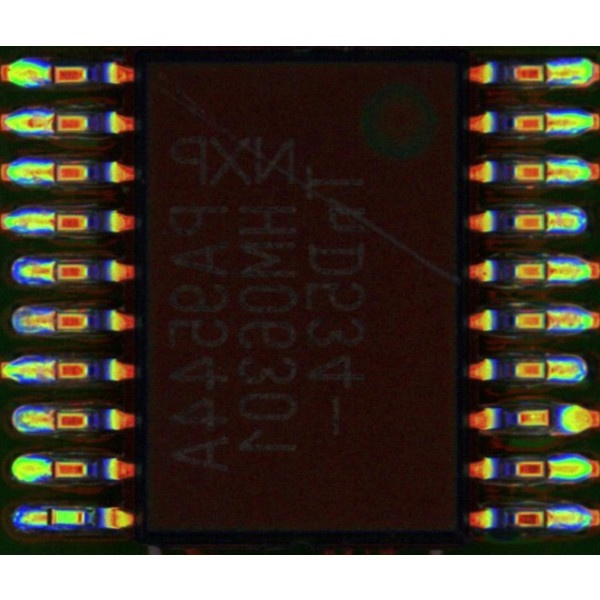Bad_podu: (530, 66, 568, 81), (526, 265, 569, 278), (32, 266, 74, 279), (526, 314, 568, 327), (32, 216, 72, 229), (32, 168, 74, 180), (530, 362, 566, 376), (34, 511, 69, 525), (37, 314, 72, 328), (33, 364, 69, 377), (528, 117, 565, 129), (527, 167, 566, 178), (33, 416, 70, 427), (528, 216, 565, 227), (532, 512, 565, 524), (532, 464, 563, 476)
